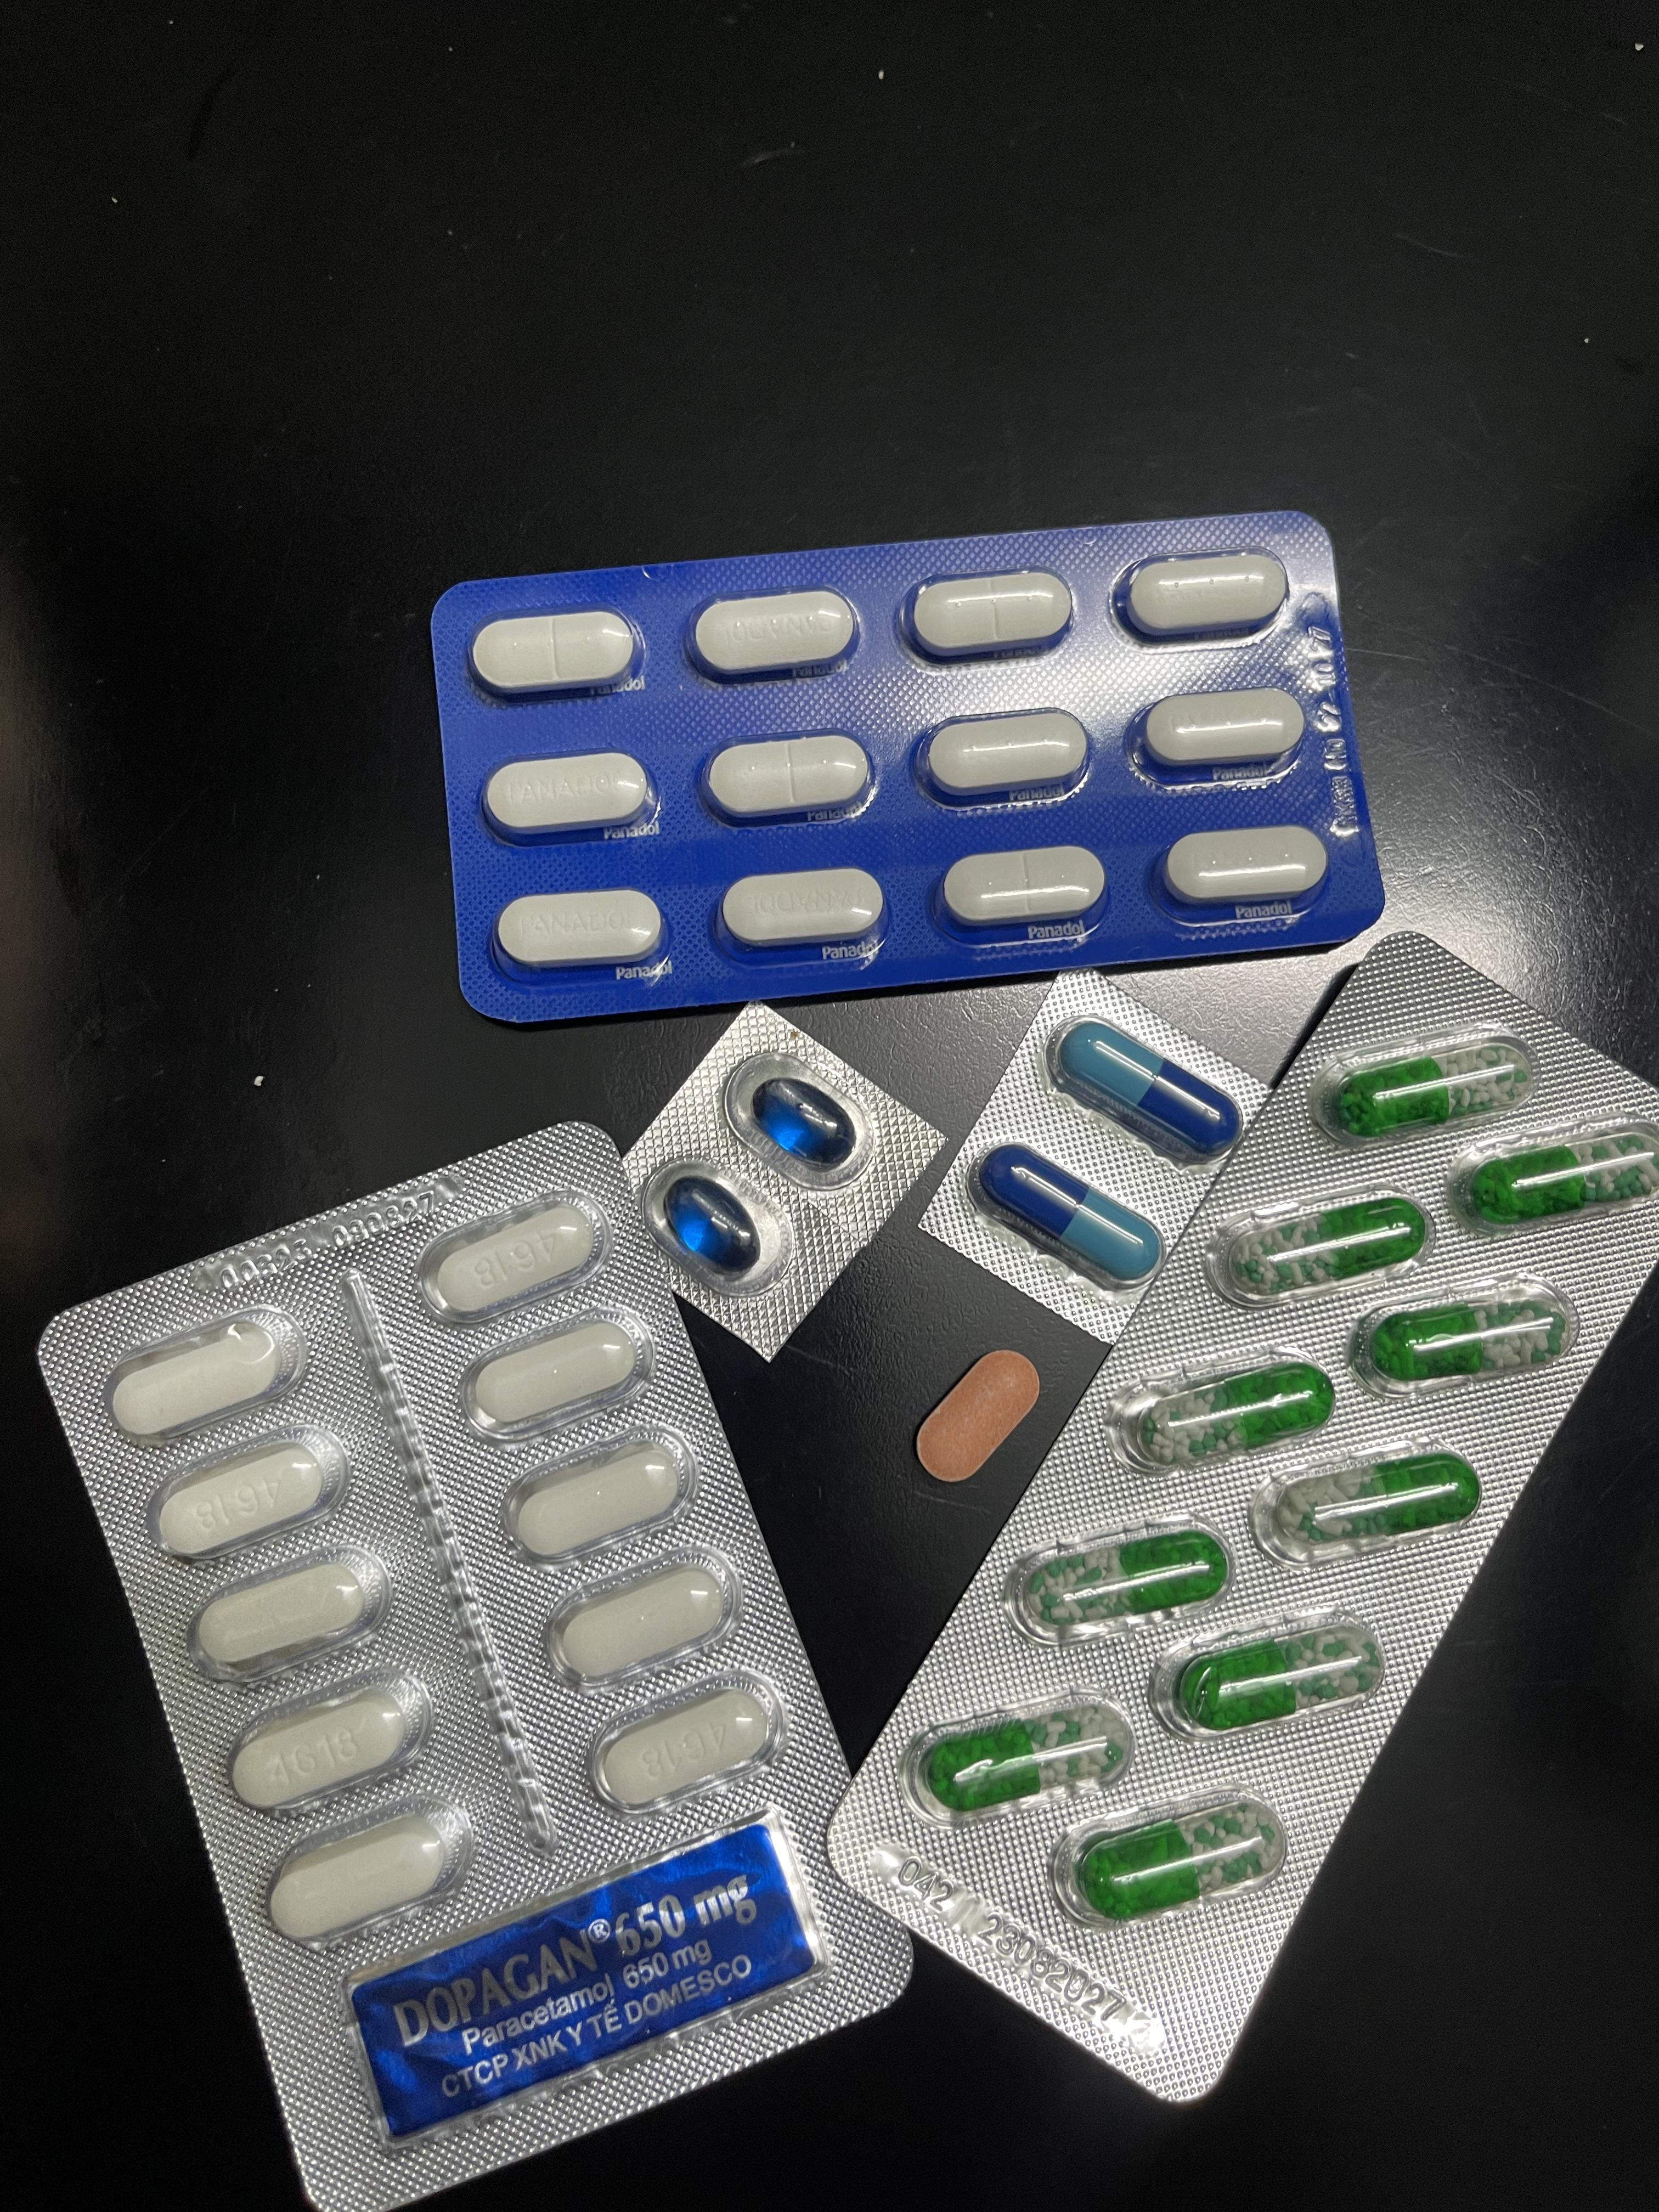Lincomyxin_500mg: (667, 1177, 762, 1270), (755, 1078, 854, 1165)
Loratadine_10mg: (915, 1348, 1042, 1486)
Paracetamol_350mg: (1121, 550, 1291, 644), (906, 570, 1077, 664), (692, 590, 868, 681), (920, 711, 1093, 803), (706, 735, 878, 826), (471, 608, 640, 700), (484, 752, 653, 841), (497, 888, 667, 974), (1161, 824, 1330, 909), (941, 845, 1107, 928), (721, 869, 889, 951), (1143, 688, 1309, 770)
Paracetamol_500mg: (265, 1787, 472, 1944), (220, 1655, 429, 1808), (183, 1533, 389, 1683), (146, 1420, 349, 1562), (587, 1674, 784, 1817), (105, 1303, 307, 1439), (545, 1547, 739, 1688), (502, 1426, 694, 1562), (458, 1308, 652, 1440), (415, 1186, 605, 1313)
Paracetamol_650mg: (1077, 1804, 1274, 1916), (1269, 1456, 1474, 1561), (922, 1709, 1126, 1811), (1176, 1625, 1380, 1728), (1134, 1367, 1323, 1465), (1331, 1052, 1534, 1141), (1237, 1197, 1427, 1291), (1032, 1529, 1223, 1620), (1370, 1298, 1561, 1383), (1469, 1139, 1659, 1224)
pill: (981, 1150, 1161, 1289), (1053, 1024, 1232, 1160)
